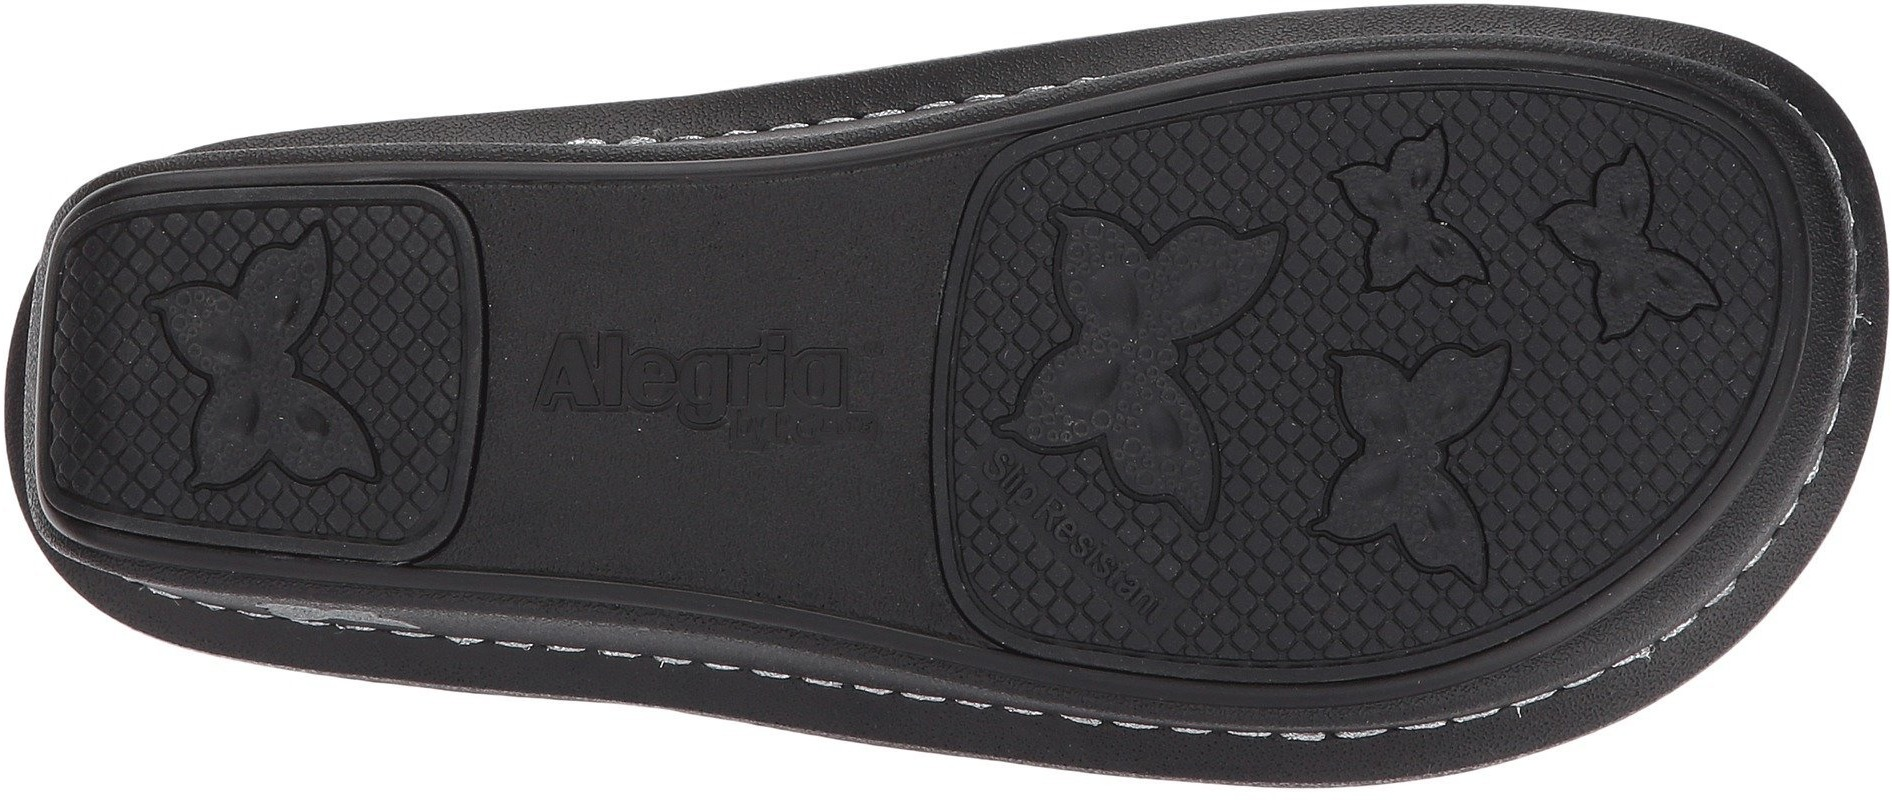bowtie: (971, 179, 1300, 545)
circle: (971, 179, 1300, 545)
other: (1530, 339, 1695, 510), (325, 242, 467, 379)
quad: (971, 179, 1300, 545)
text: (971, 179, 1300, 545), (703, 300, 869, 480), (550, 306, 688, 455)
